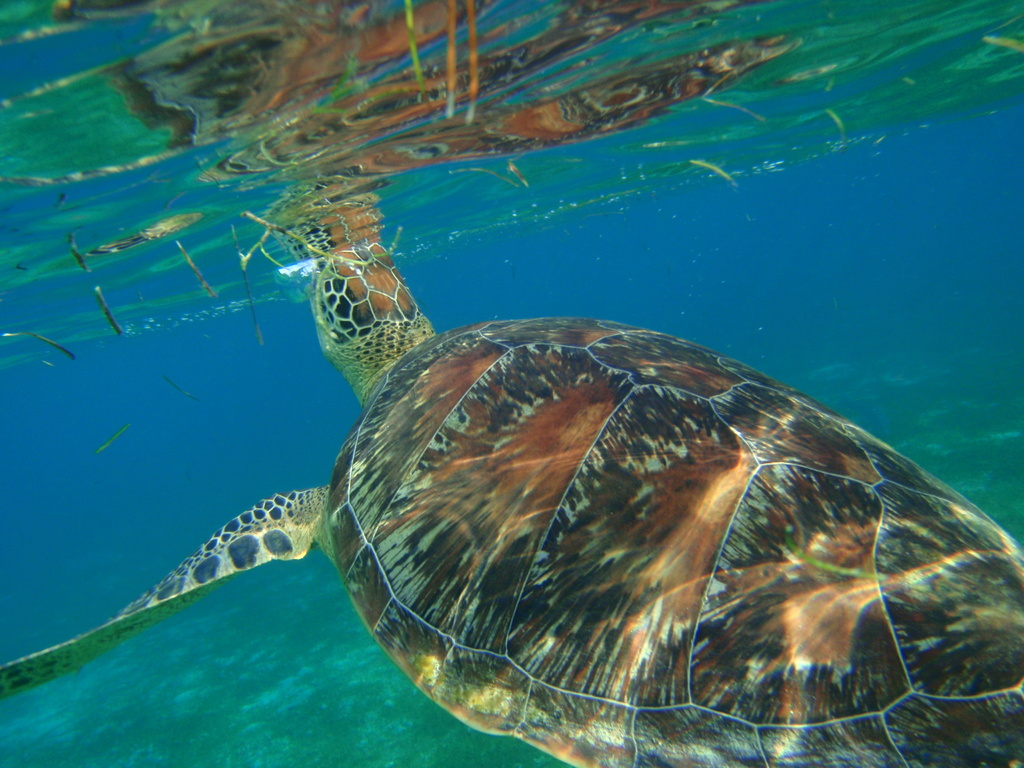Sea turtles: (0, 249, 1023, 767)
